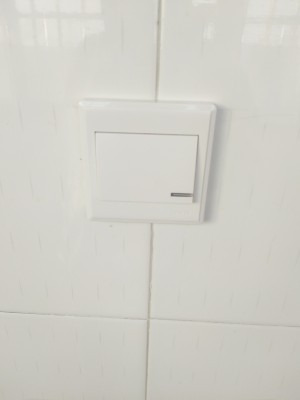switch: (98, 131, 189, 205)
